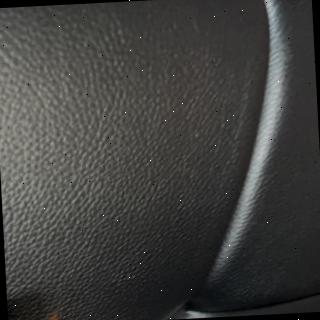fire: (16, 308, 84, 320), (32, 315, 60, 320)
